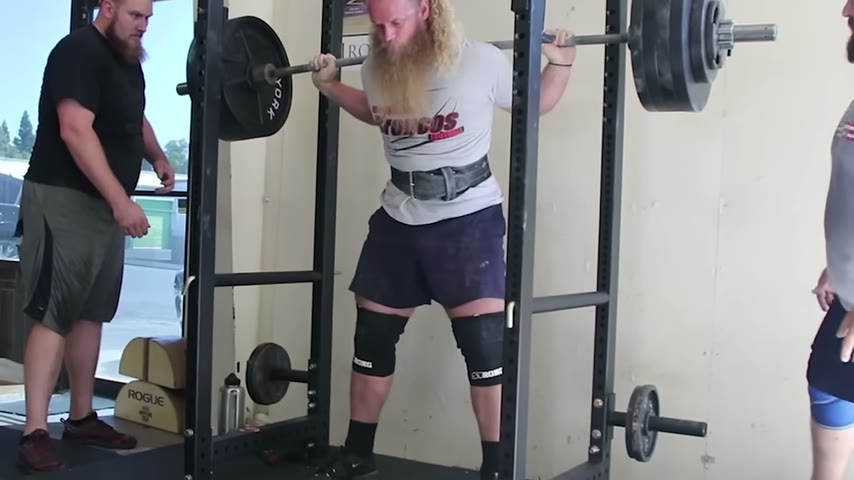barbell_plate_side: (192, 9, 291, 153), (512, 0, 615, 125), (703, 0, 782, 115)
